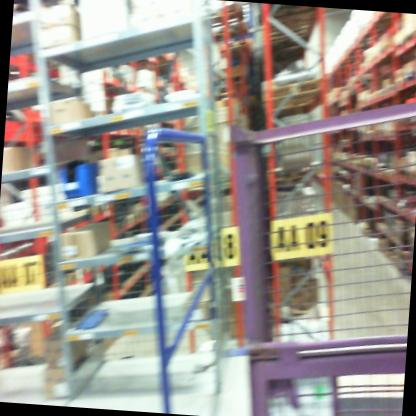pallet: (252, 66, 335, 128), (252, 3, 326, 44), (214, 71, 253, 98), (207, 4, 247, 30), (219, 37, 251, 61)
stillage: (206, 89, 416, 416)
